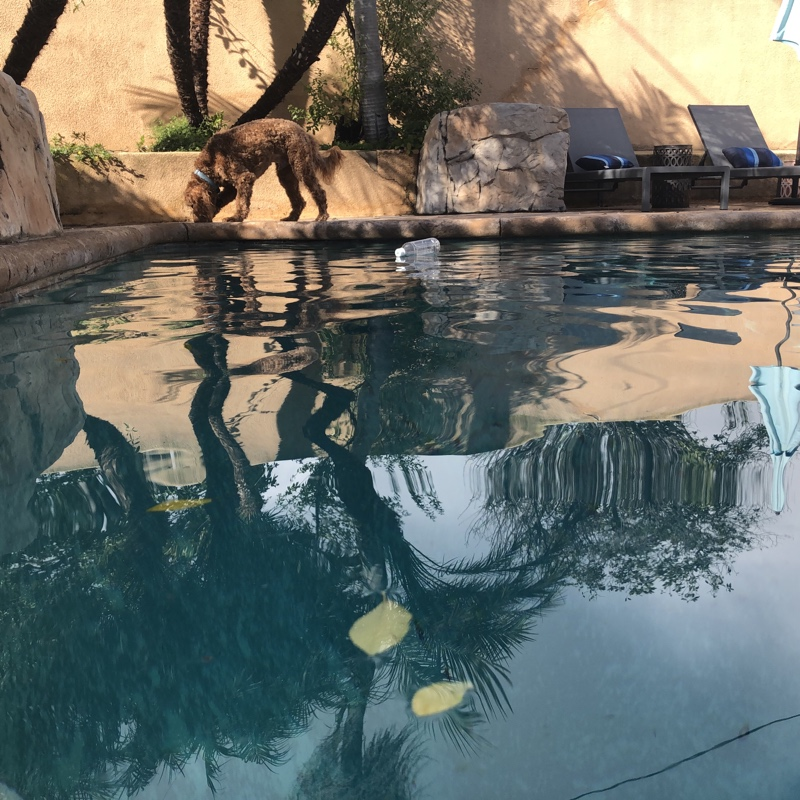Plastic Bottle: (392, 235, 443, 265)
